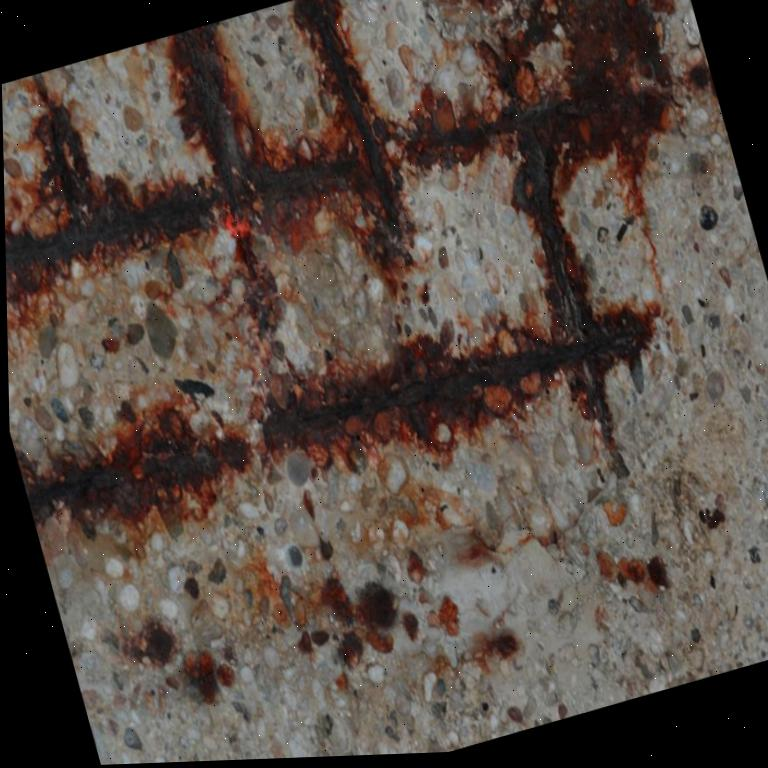exposed_rebar: (265, 53, 667, 475), (5, 0, 406, 280), (27, 405, 250, 525)
spalling: (2, 0, 719, 528)
